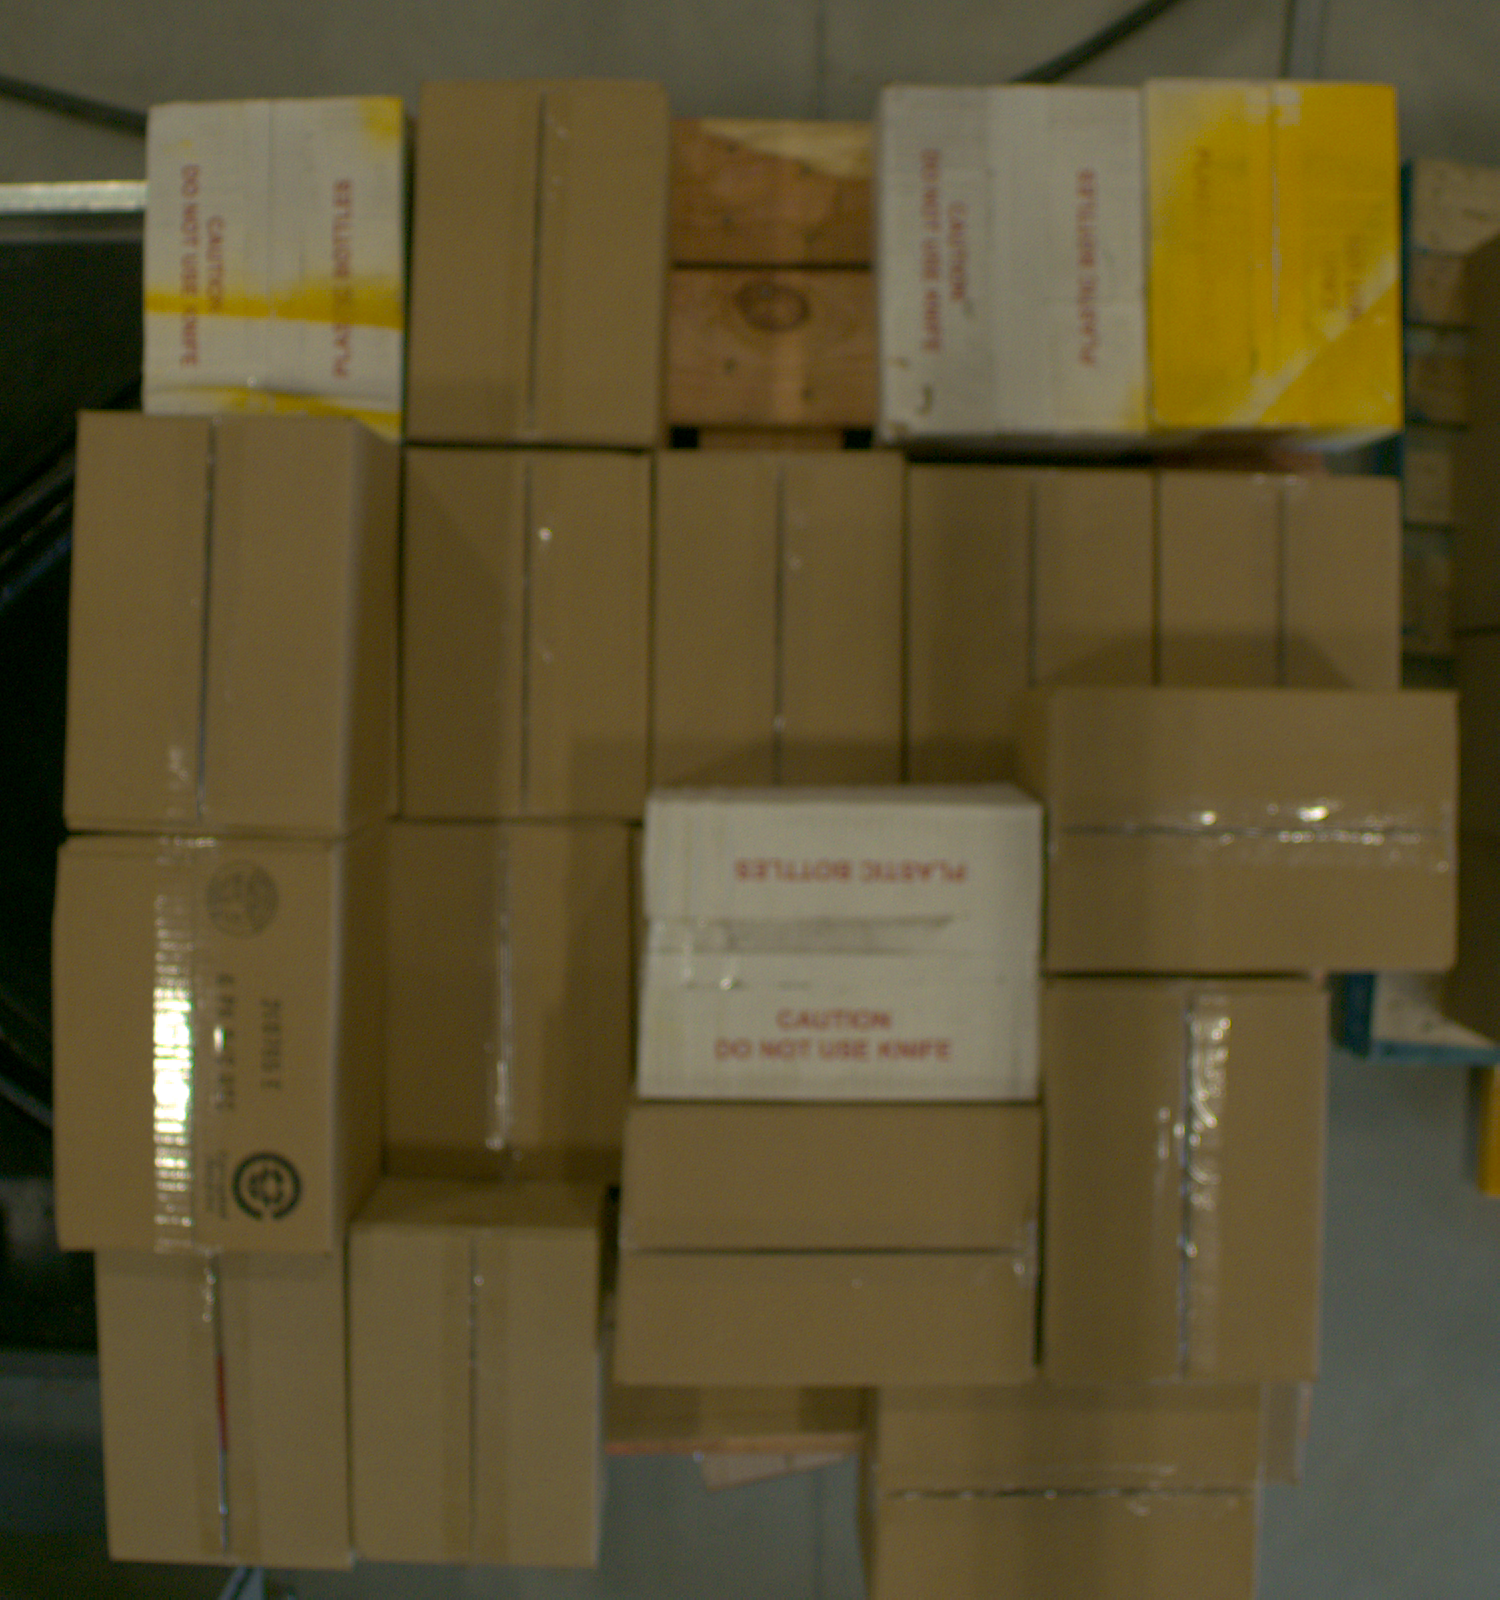box top: (63, 410, 355, 837), (54, 836, 340, 1255), (640, 806, 1045, 1100), (620, 1109, 1039, 1384), (1050, 694, 1458, 971), (1045, 978, 1322, 1386), (412, 79, 667, 445), (884, 89, 1143, 433), (405, 458, 651, 818), (144, 99, 403, 440), (1148, 79, 1401, 427), (874, 1379, 1266, 1599), (388, 825, 629, 1180), (351, 1233, 598, 1569), (656, 453, 904, 785), (96, 1250, 351, 1572), (909, 469, 1152, 781), (1162, 476, 1398, 689)
